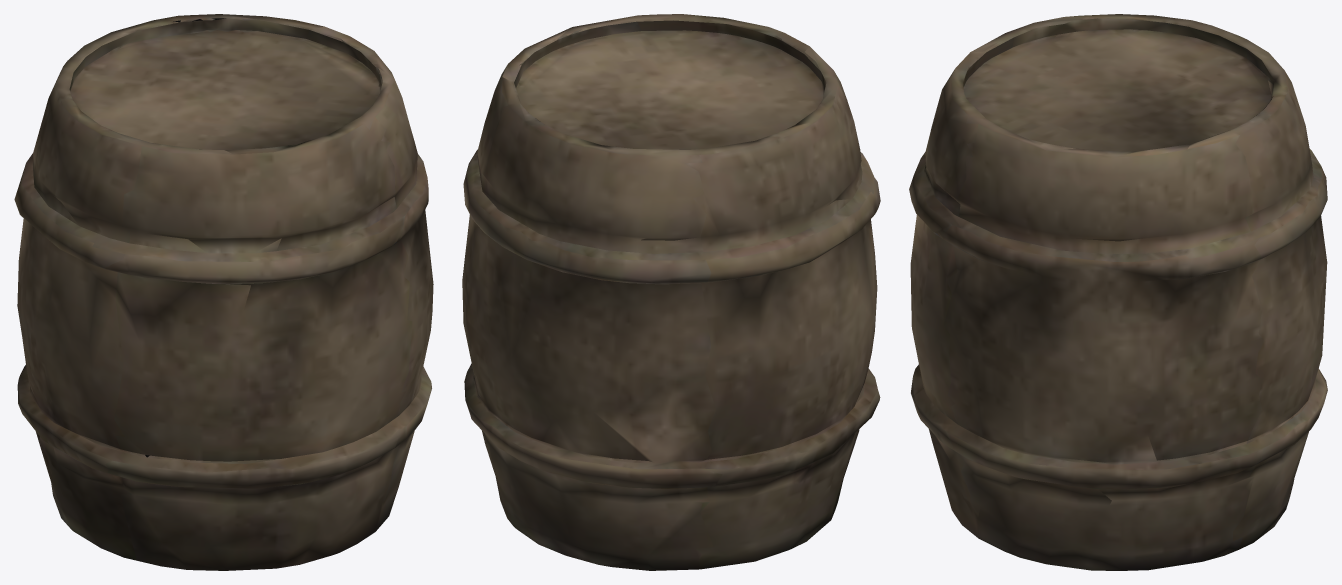
The model's file is rustic-wood-barrel-v001.glb.
3 views of the same model, side by side, from view 1: azimuth 30°, elevation 25°; view 2: azimuth 150°, elevation 25°; view 3: azimuth 270°, elevation 25° (orthographic).
Parts seen in each view (by area): view 1: rustic-wood-barrel; view 2: rustic-wood-barrel; view 3: rustic-wood-barrel.
Part boxes in pixels (x1,y1,x2,y2): rustic-wood-barrel: (14,14,433,570); rustic-wood-barrel: (462,14,880,570); rustic-wood-barrel: (909,14,1327,570).
Size of the model in its own units: 0.8525 by 0.9398 by 0.856.
Materials: 1 (1 with a texture image).
